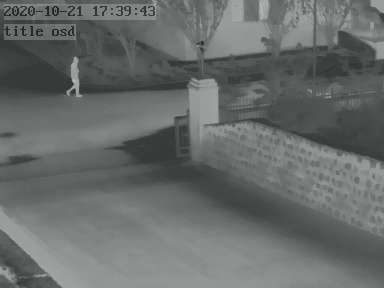person: (66, 54, 82, 97)
